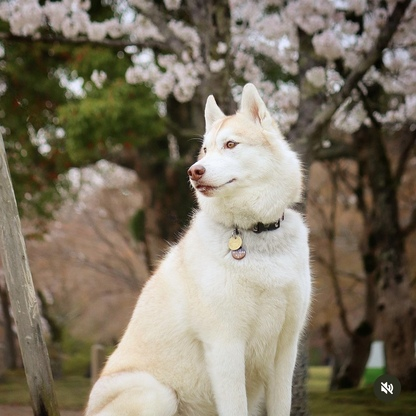husky: (80, 78, 319, 416)
